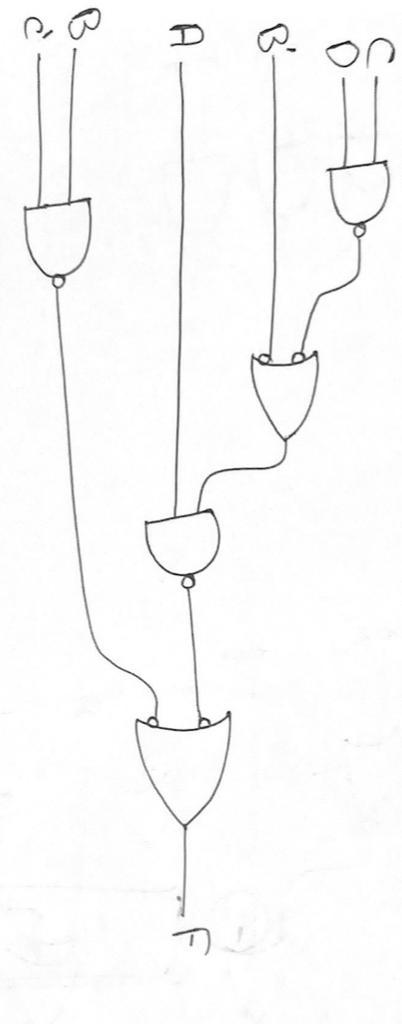NAND: (124, 506, 249, 601), (14, 192, 116, 299), (314, 152, 401, 248)
OR: (118, 706, 261, 842), (224, 332, 349, 460)
